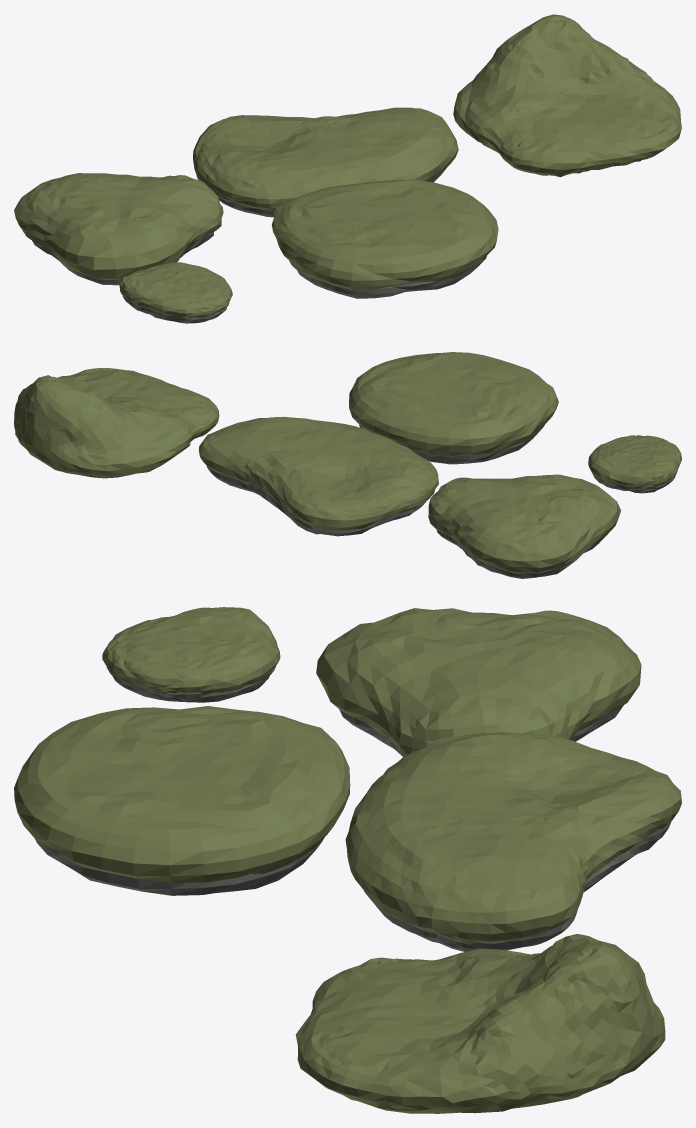
Rendered from Islands_05.fbx.
3 views of the same model, one above another, from view 1: azimuth 30°, elevation 25°; view 2: azimuth 150°, elevation 25°; view 3: azimuth 270°, elevation 25° (orthographic). The views are drawn at different scales.
Parts seen in each view (by area): view 1: Ö2, pCube33, pCube36, pCube35, Ö1, pCube44, Ö7, pCube42; view 2: pCube36, Ö2, pCube33, pCube35, Ö1, pCube43, pCube44, pCube42, Ö7; view 3: Ö2, pCube36, pCube33, pCube35, Ö1, pCube44, pCube43, Ö7, pCube42.
Part boxes in pixels (x1=…): Ö2: x1=453, y1=14, x2=681, y2=177; pCube33: x1=272, y1=179, x2=498, y2=290; pCube36: x1=193, y1=107, x2=458, y2=211; pCube35: x1=14, y1=173, x2=223, y2=280; Ö1: x1=119, y1=262, x2=232, y2=319; pCube44: x1=292, y1=256, x2=486, y2=298; Ö7: x1=122, y1=296, x2=226, y2=323; pCube42: x1=32, y1=232, x2=213, y2=285; pCube36: x1=198, y1=416, x2=438, y2=530; Ö2: x1=14, y1=368, x2=219, y2=478; pCube33: x1=349, y1=352, x2=558, y2=456; pCube35: x1=428, y1=474, x2=621, y2=574; Ö1: x1=588, y1=435, x2=681, y2=489; pCube43: x1=206, y1=466, x2=425, y2=536; pCube44: x1=359, y1=424, x2=544, y2=464; pCube42: x1=436, y1=529, x2=604, y2=578; Ö7: x1=593, y1=466, x2=679, y2=493; Ö2: x1=295, y1=934, x2=665, y2=1113; pCube36: x1=345, y1=732, x2=681, y2=944; pCube33: x1=14, y1=706, x2=350, y2=883; pCube35: x1=316, y1=608, x2=641, y2=755; Ö1: x1=102, y1=607, x2=280, y2=694; pCube44: x1=35, y1=838, x2=323, y2=895; pCube43: x1=364, y1=821, x2=671, y2=951; Ö7: x1=106, y1=665, x2=276, y2=702; pCube42: x1=339, y1=705, x2=623, y2=756.
Bounding box in the file's own units: 56.3 × 8.17 × 33.42.
